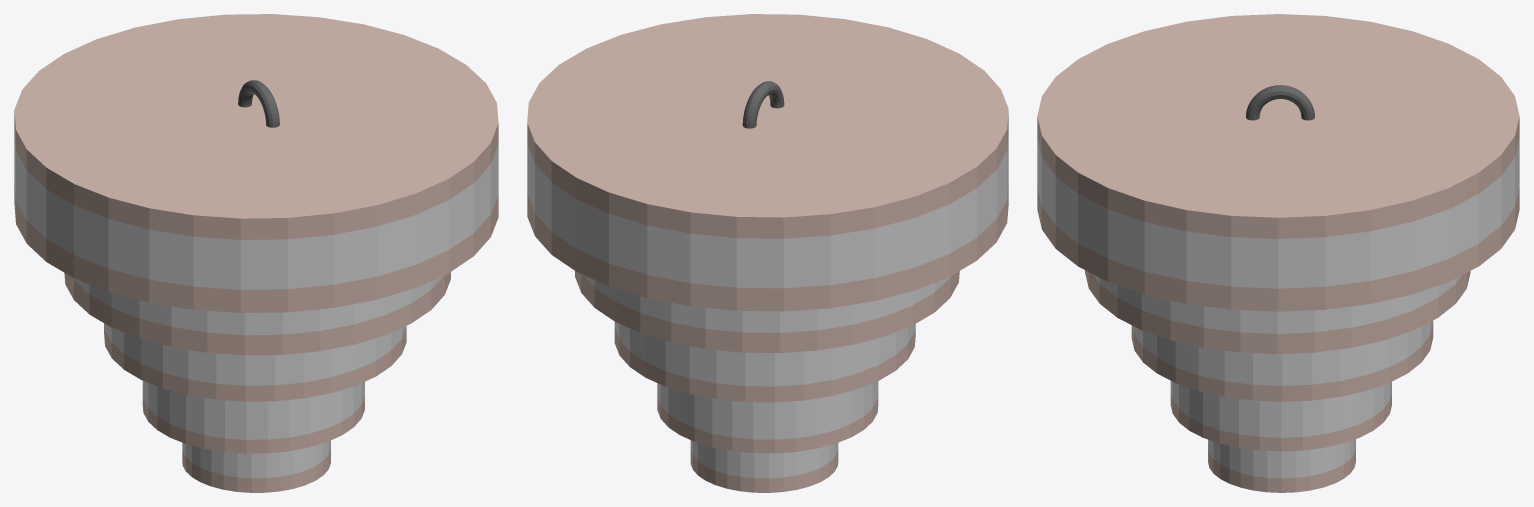
The model's file is chandelier.dae.
3 views of the same model, side by side, from view 1: azimuth 30°, elevation 25°; view 2: azimuth 150°, elevation 25°; view 3: azimuth 270°, elevation 25° (orthographic).
Visible parts, largest first — view 1: Plane; view 2: Plane; view 3: Plane.
Boxes of the visible parts, x1,y1,x2,y2 form: Plane: (14, 14, 498, 492); Plane: (527, 14, 1008, 492); Plane: (1037, 14, 1519, 492).
Bounding box in the file's own units: 5.05 × 5.05 × 4.35.
